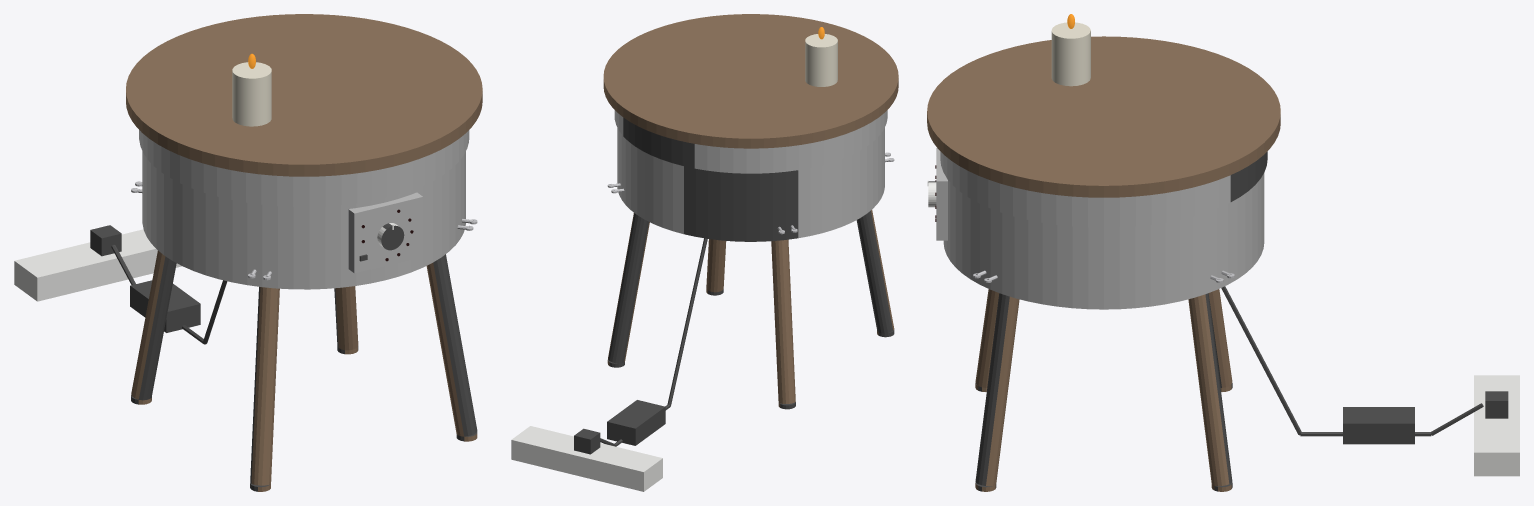
File: twin.glb
3 renders of one model, left to right at view 1: azimuth 30°, elevation 25°; view 2: azimuth 150°, elevation 25°; view 3: azimuth 270°, elevation 25°, orthographic. The views are drawn at different scales.
Parts seen in each view (by area): view 1: Top, Body, PowerStrip, Leg_1, Leg_2, Leg_4, PowerCable, Candle, Leg_3, Plug, Knob; view 2: Top, Body, PowerStrip, Leg_4, PowerCable, Leg_3, Leg_1, Candle, Leg_2, Plug; view 3: Top, Body, Leg_3, Leg_2, PowerCable, PowerStrip, Candle, Leg_1, Leg_4, Plug.
Part boxes in pixels (left/top/right/bottom): Top: left=126, top=14, right=482, bottom=176; Body: left=139, top=130, right=469, bottom=289; PowerStrip: left=14, top=229, right=181, bottom=301; Leg_1: left=250, top=287, right=279, bottom=491; Leg_2: left=426, top=254, right=477, bottom=441; Leg_4: left=131, top=250, right=176, bottom=404; PowerCable: left=111, top=245, right=227, bottom=344; Candle: left=232, top=62, right=271, bottom=126; Leg_3: left=334, top=286, right=358, bottom=354; Plug: left=90, top=225, right=121, bottom=256; Knob: left=377, top=223, right=404, bottom=250; Top: left=603, top=14, right=898, bottom=148; Body: left=614, top=110, right=887, bottom=241; PowerStrip: left=511, top=426, right=662, bottom=491; Leg_4: left=771, top=239, right=795, bottom=409; PowerCable: left=600, top=238, right=707, bottom=446; Leg_3: left=607, top=213, right=649, bottom=367; Leg_1: left=856, top=210, right=894, bottom=337; Candle: left=805, top=34, right=837, bottom=86; Leg_2: left=706, top=239, right=726, bottom=295; Plug: left=574, top=428, right=600, bottom=454; Top: left=927, top=36, right=1280, bottom=197; Body: left=936, top=148, right=1267, bottom=309; Leg_3: left=1188, top=293, right=1232, bottom=491; Leg_2: left=975, top=293, right=1019, bottom=491; PowerCable: left=1221, top=286, right=1483, bottom=444; PowerStrip: left=1474, top=375, right=1519, bottom=476; Candle: left=1051, top=22, right=1090, bottom=86; Leg_1: left=975, top=289, right=999, bottom=391; Leg_4: left=1208, top=289, right=1232, bottom=391; Plug: left=1485, top=391, right=1508, bottom=418.
Size of the model in its own units: 0.54 by 0.6575 by 0.905.
